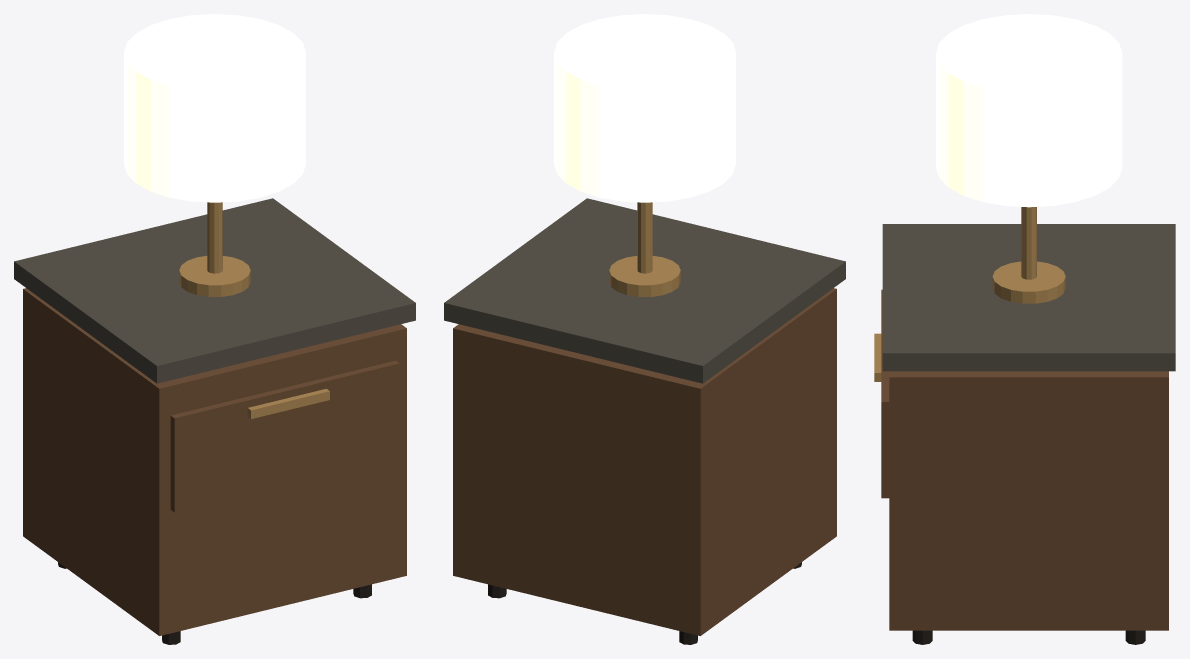
3 views of the same model, side by side, from view 1: azimuth 30°, elevation 25°; view 2: azimuth 150°, elevation 25°; view 3: azimuth 270°, elevation 25° (orthographic). The views are drawn at different scales.
Visible parts, largest first — view 1: bedside-table; view 2: bedside-table; view 3: bedside-table.
Part boxes in pixels (left/top/right/bottom): bedside-table: left=14, top=14, right=415, bottom=644; bedside-table: left=444, top=14, right=845, bottom=644; bedside-table: left=874, top=14, right=1175, bottom=644.
Size of the model in its own units: 0.46 by 0.895 by 0.4525.
